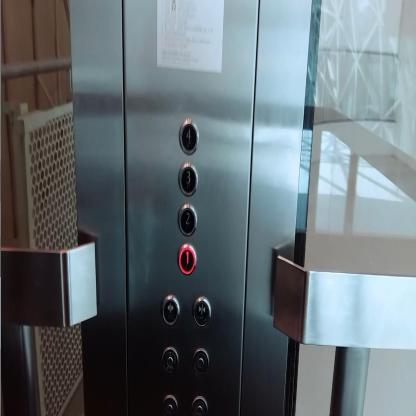1: (176, 242, 197, 275)
2: (176, 199, 198, 237)
3: (176, 159, 198, 198)
4: (178, 116, 200, 158)
close: (191, 294, 212, 328)
keyhole: (191, 345, 210, 378), (161, 344, 179, 376), (191, 394, 210, 416), (160, 394, 179, 416)
open: (160, 292, 181, 326)
